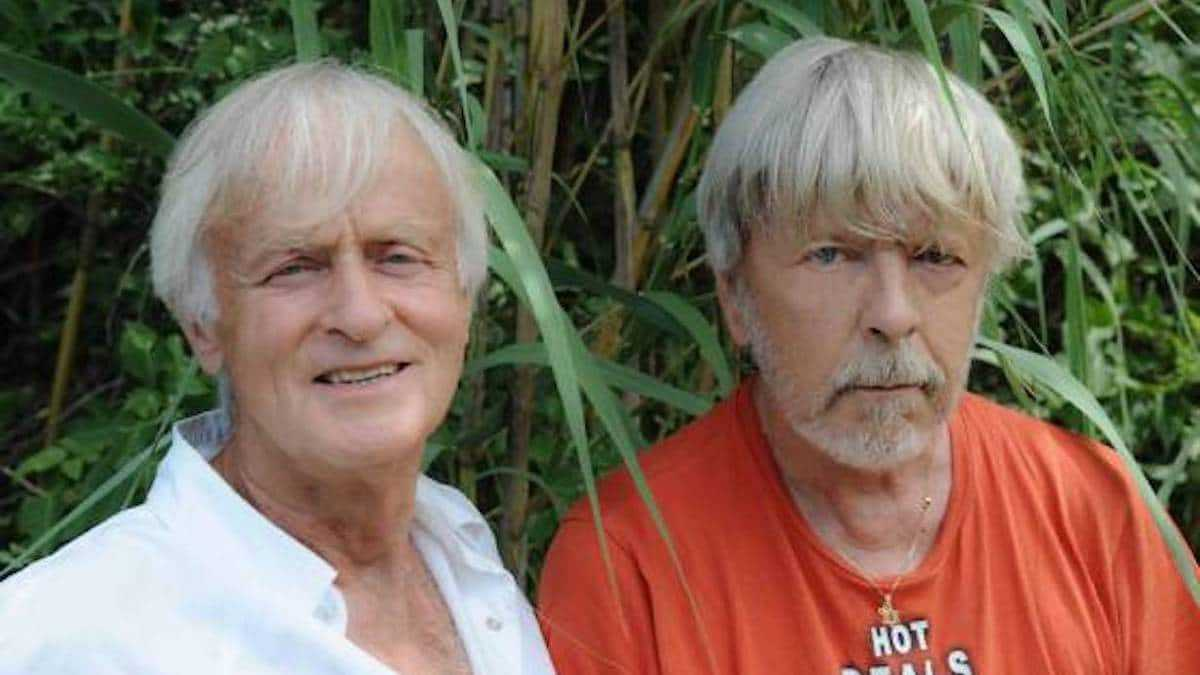without_mask: (221, 158, 461, 442), (747, 160, 982, 448)
